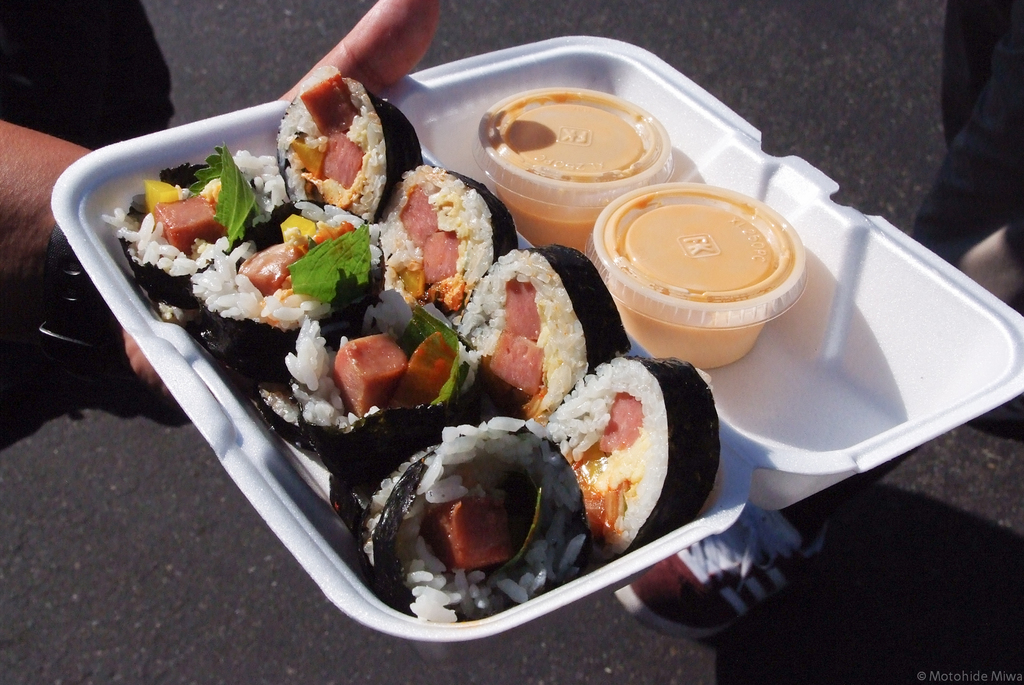sushi: (100, 67, 714, 622), (279, 61, 431, 220)
